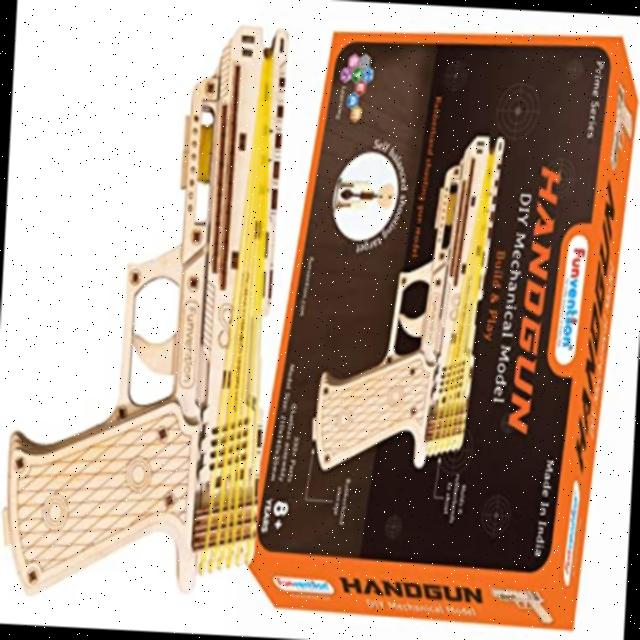Handgun: (1, 11, 300, 624), (309, 121, 503, 484)
